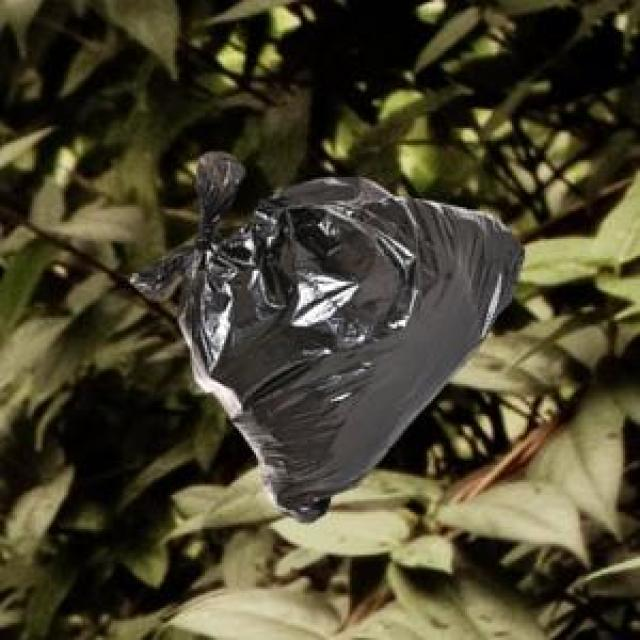Vinyl: (130, 154, 521, 519)
